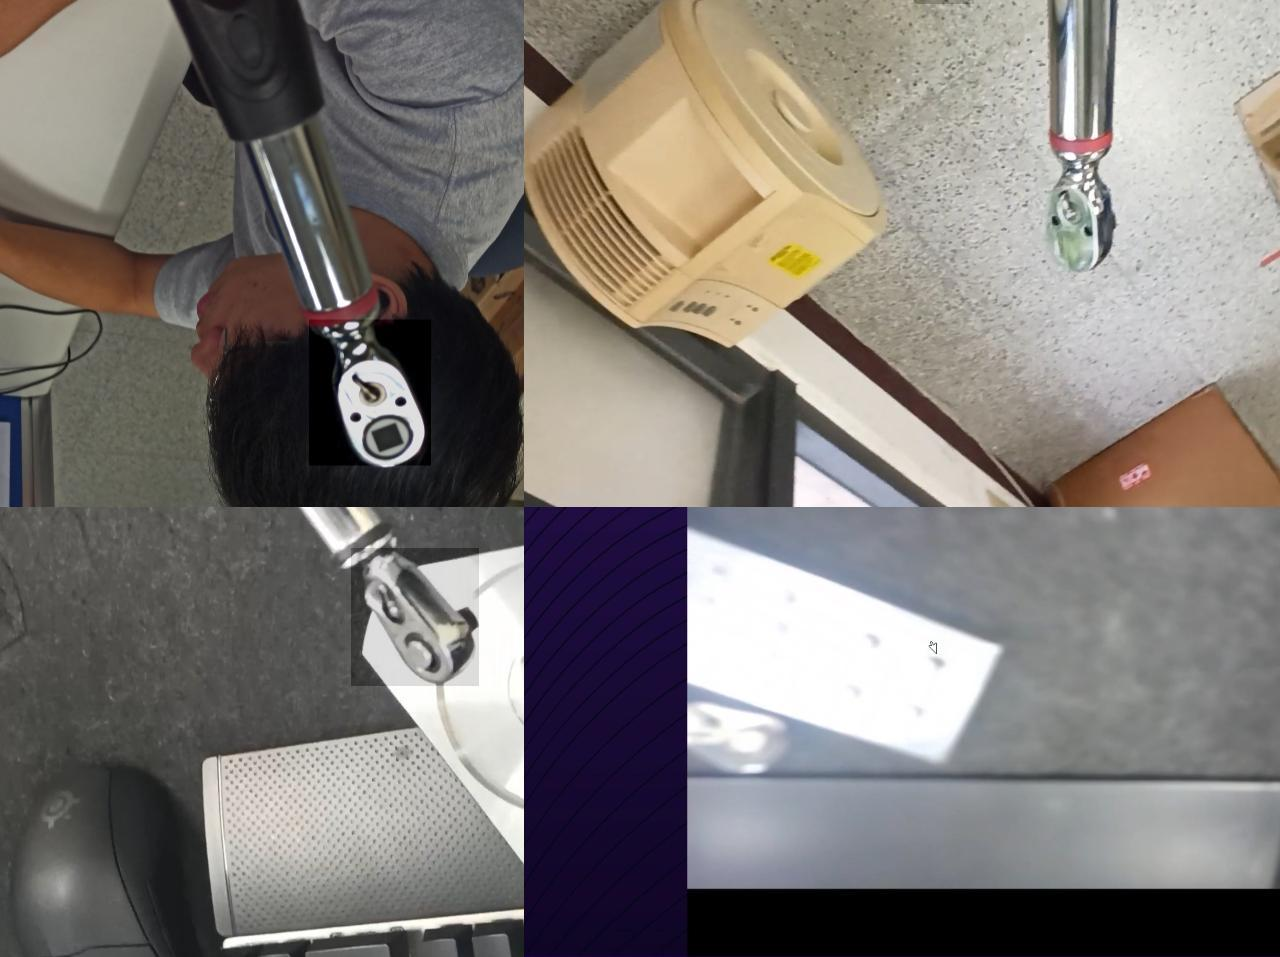Tool: (309, 319, 431, 465), (351, 548, 479, 686), (1033, 147, 1119, 275)
